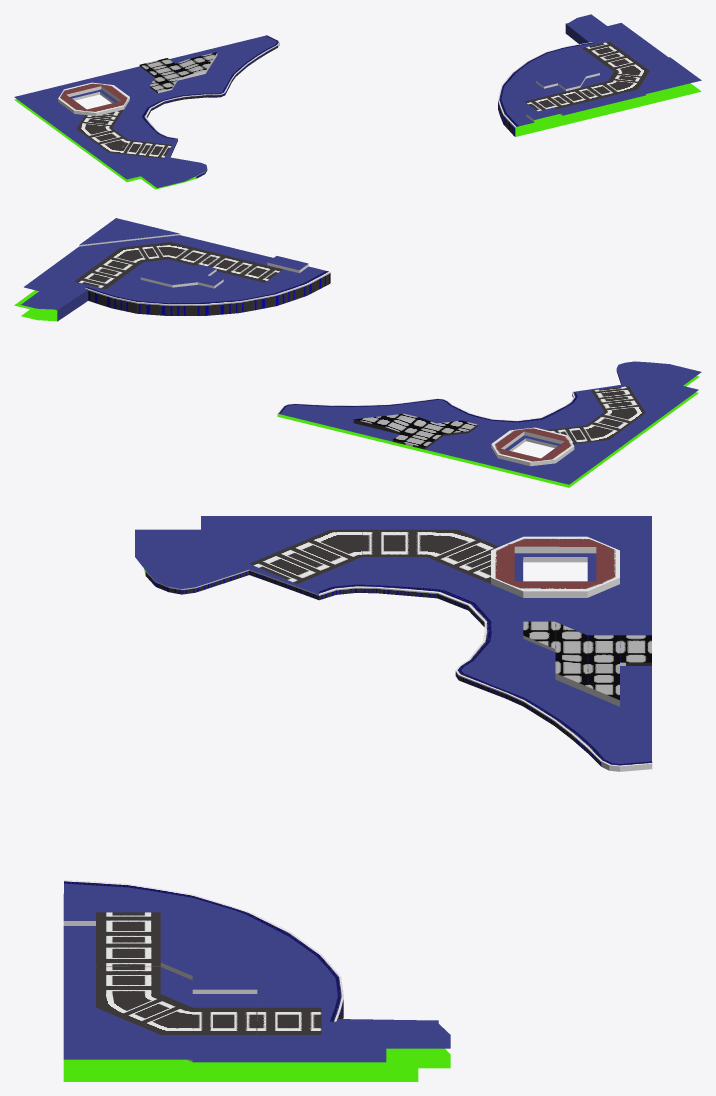
Rendered from PlantasSuperiores NIVEL1.fbx.
3 renders of one model, top to bottom at view 1: azimuth 30°, elevation 25°; view 2: azimuth 150°, elevation 25°; view 3: azimuth 270°, elevation 25°, orthographic. The views are drawn at different scales.
Parts seen in each view (by area): view 1: Ala_01, Ala_02; view 2: Ala_01, Ala_02; view 3: Ala_01, Ala_02.
Part boxes in pixels (left/top/right/bottom): Ala_01: left=14, top=35, right=279, bottom=189; Ala_02: left=498, top=14, right=701, bottom=136; Ala_01: left=277, top=361, right=701, bottom=487; Ala_02: left=14, top=218, right=330, bottom=321; Ala_01: left=135, top=516, right=652, bottom=771; Ala_02: left=63, top=880, right=450, bottom=1081.
Size of the model in its own units: 155 by 6.08 by 73.
